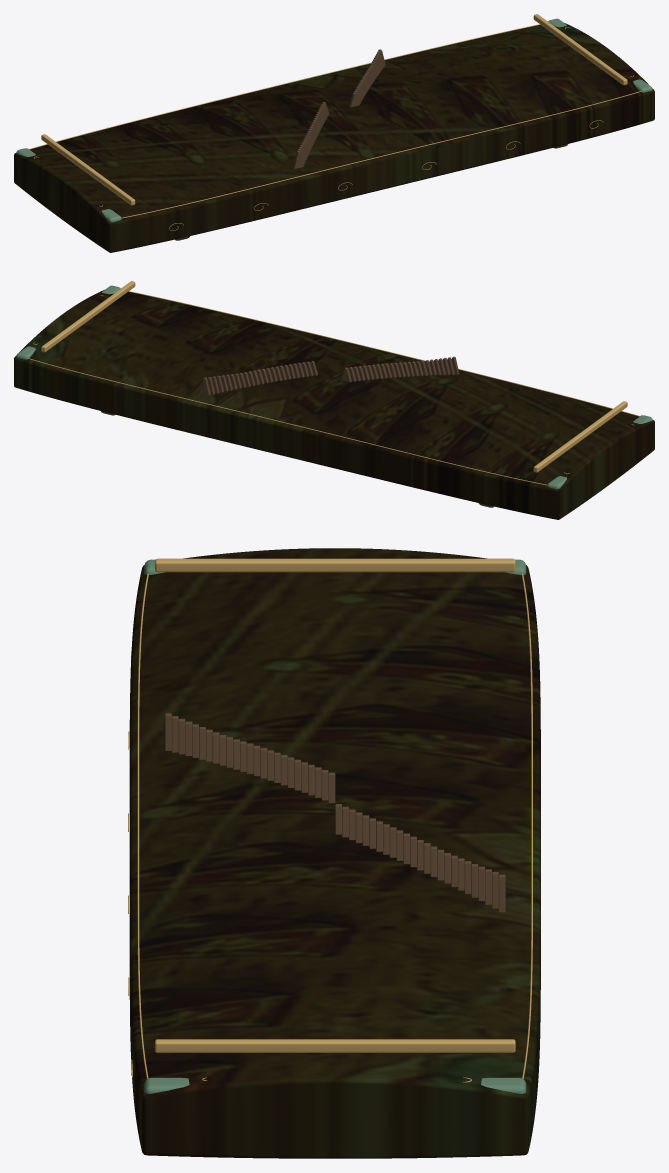
Rendered from instrument-new-art.glb.
3 renders of one model, top to bottom at view 1: azimuth 30°, elevation 25°; view 2: azimuth 150°, elevation 25°; view 3: azimuth 270°, elevation 25°, orthographic. The views are drawn at different scales.
Parts seen in each view (by area): view 1: Jinse_Carved_Soundbox, Transverse_Rail_-1, Transverse_Rail_1, Fine_Gold_Edge_-1, Fine_Gold_Edge_1; view 2: Jinse_Carved_Soundbox, Transverse_Rail_-1, Transverse_Rail_1, Fine_Gold_Edge_1, Fine_Gold_Edge_-1; view 3: Jinse_Carved_Soundbox, Transverse_Rail_-1, Transverse_Rail_1, Fine_Gold_Edge_-1, Jade_Endband_1, Fine_Gold_Edge_1.
Boxes of the visible parts, x1,y1,x2,y2 form: Jinse_Carved_Soundbox: [14, 23, 654, 252]; Transverse_Rail_-1: [41, 134, 135, 205]; Transverse_Rail_1: [533, 14, 627, 85]; Fine_Gold_Edge_-1: [121, 91, 640, 218]; Fine_Gold_Edge_1: [29, 24, 540, 149]; Jinse_Carved_Soundbox: [14, 289, 654, 519]; Transverse_Rail_-1: [533, 401, 627, 472]; Transverse_Rail_1: [41, 281, 135, 352]; Fine_Gold_Edge_1: [28, 358, 547, 485]; Fine_Gold_Edge_-1: [128, 291, 639, 416]; Jinse_Carved_Soundbox: [129, 548, 540, 1158]; Transverse_Rail_-1: [155, 558, 515, 572]; Transverse_Rail_1: [155, 1039, 515, 1052]; Fine_Gold_Edge_-1: [137, 573, 148, 1078]; Jade_Endband_1: [144, 1077, 526, 1093]; Fine_Gold_Edge_1: [521, 573, 532, 1078].
Size of the model in its own units: 13 by 1.53 by 4.26.
78 materials, 1 textured.
